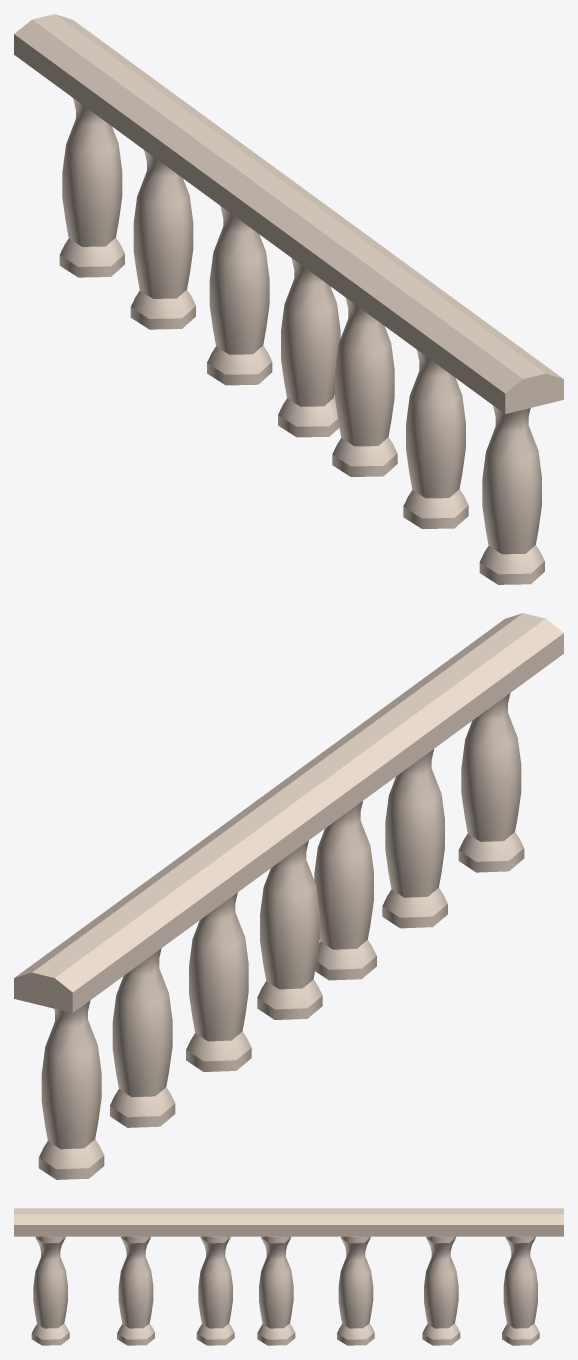
Rendered from BC_Frame_H_02.fbx.
3 renders of one model, top to bottom at view 1: azimuth 30°, elevation 25°; view 2: azimuth 150°, elevation 25°; view 3: azimuth 270°, elevation 25°, orthographic. The views are drawn at different scales.
Visible parts, largest first — view 1: BC_Frame_H_02; view 2: BC_Frame_H_02; view 3: BC_Frame_H_02.
Boxes of the visible parts, x1=… form: BC_Frame_H_02: x1=14, y1=14, x2=563, y2=584; BC_Frame_H_02: x1=14, y1=613, x2=563, y2=1179; BC_Frame_H_02: x1=14, y1=1208, x2=563, y2=1345.
Bounding box in the file's own units: 28.29 × 92.6 × 370.
